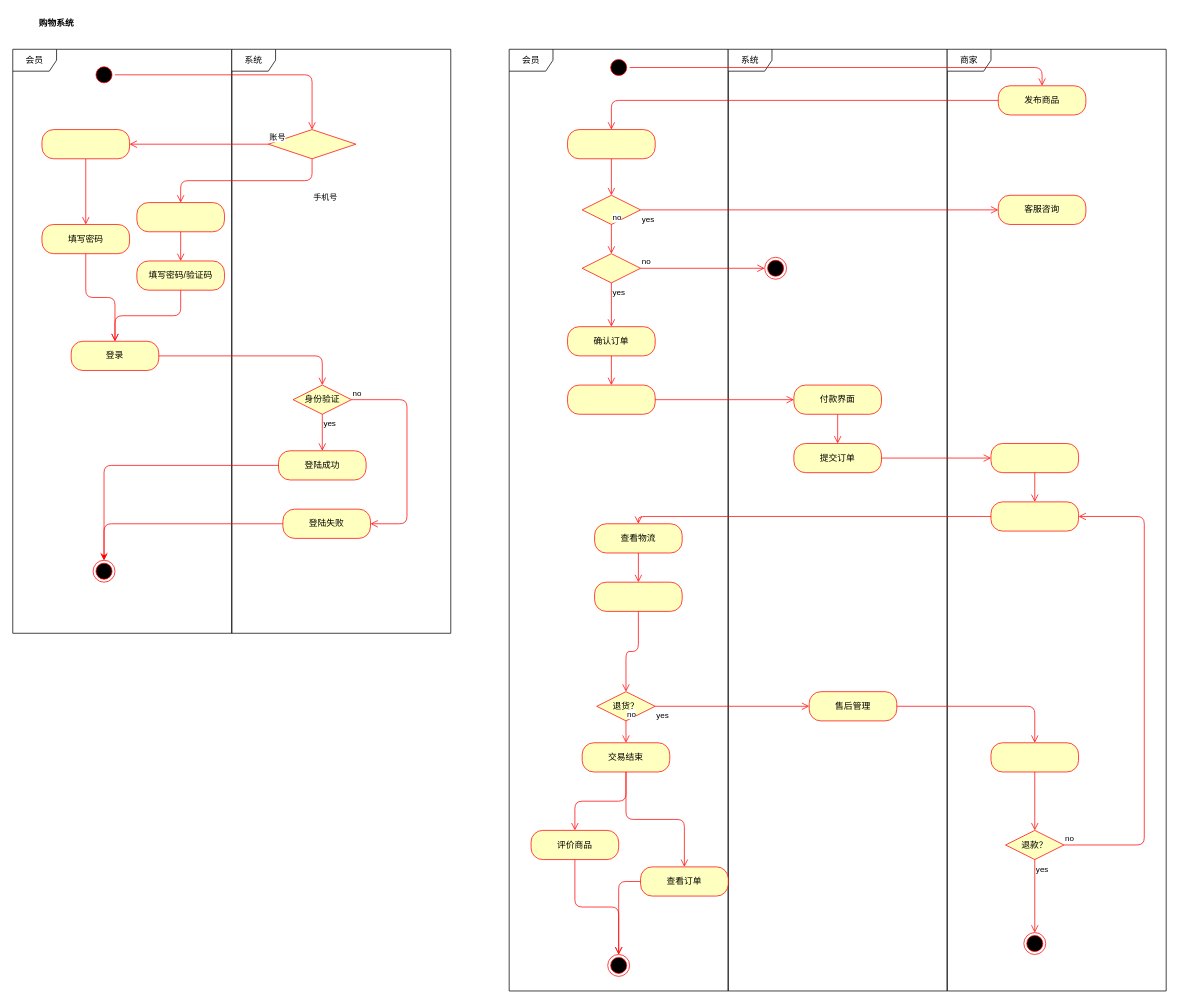
The diagram is 1179 pixels wide and 1004 high, and some of its shapes have lost their labels. Each missing label, with the centre of its shape:
"付款" goes at pixel 611 399.
"判断登录类型" goes at pixel 312 144.
"加入购物车" goes at pixel 611 268.
"咨询客服" goes at pixel 611 209.
"商品发货" goes at pixel 1034 516.
"商家客服处理" goes at pixel 1034 757.
"填写手机号" goes at pixel 180 217.
"填写账号" goes at pixel 85 144.
"收到订单" goes at pixel 1034 458.
"查看商品" goes at pixel 611 144.
"确认收货" goes at pixel 638 596.
